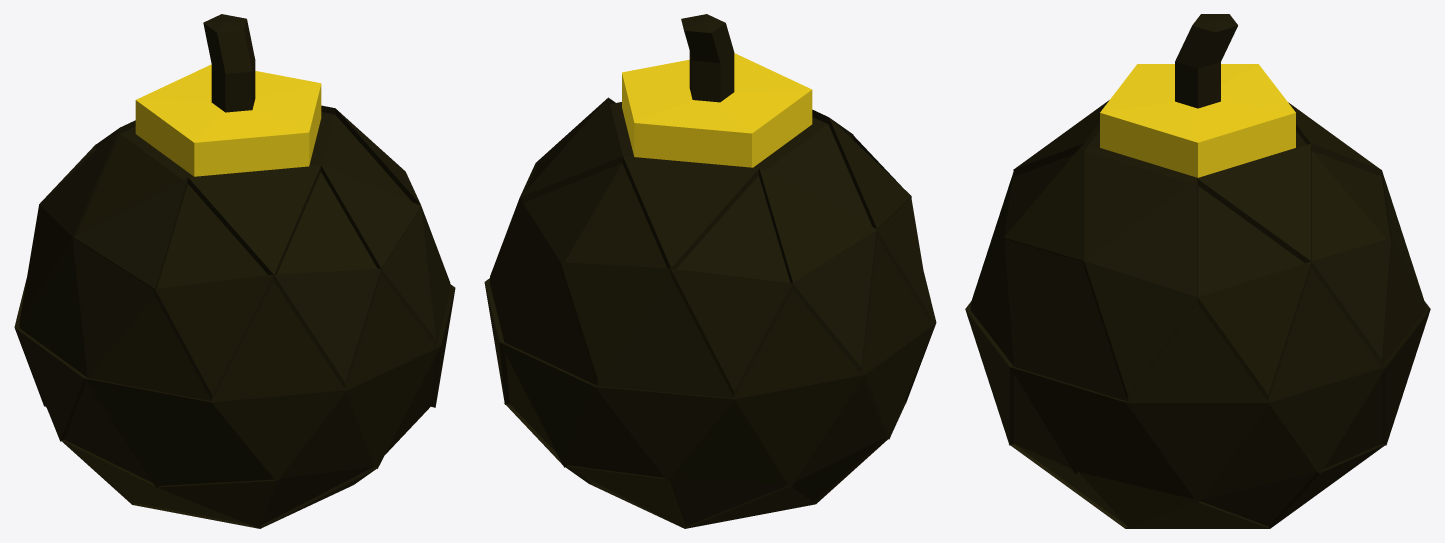
File: trap.gltf
3 renders of one model, left to right at view 1: azimuth 30°, elevation 25°; view 2: azimuth 150°, elevation 25°; view 3: azimuth 270°, elevation 25°, orthographic. The views are drawn at different scales.
Parts seen in each view (by area): view 1: トラップ; view 2: トラップ; view 3: トラップ.
Part boxes in pixels (bbox=[...]): トラップ: bbox=[14, 14, 455, 528]; トラップ: bbox=[484, 14, 936, 528]; トラップ: bbox=[965, 14, 1430, 528].
Bounding box in the file's own units: 1.95 × 2.42 × 2.05.
1 material, 1 textured.
